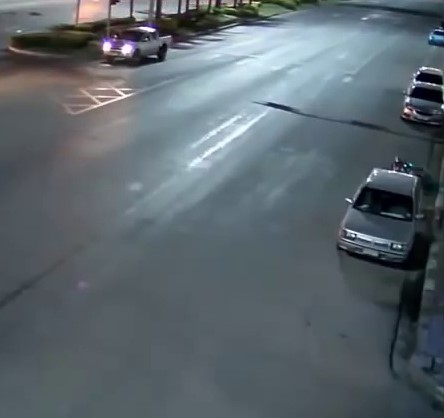car: (339, 168, 419, 264), (102, 25, 171, 65), (403, 68, 444, 125), (426, 27, 444, 46)
